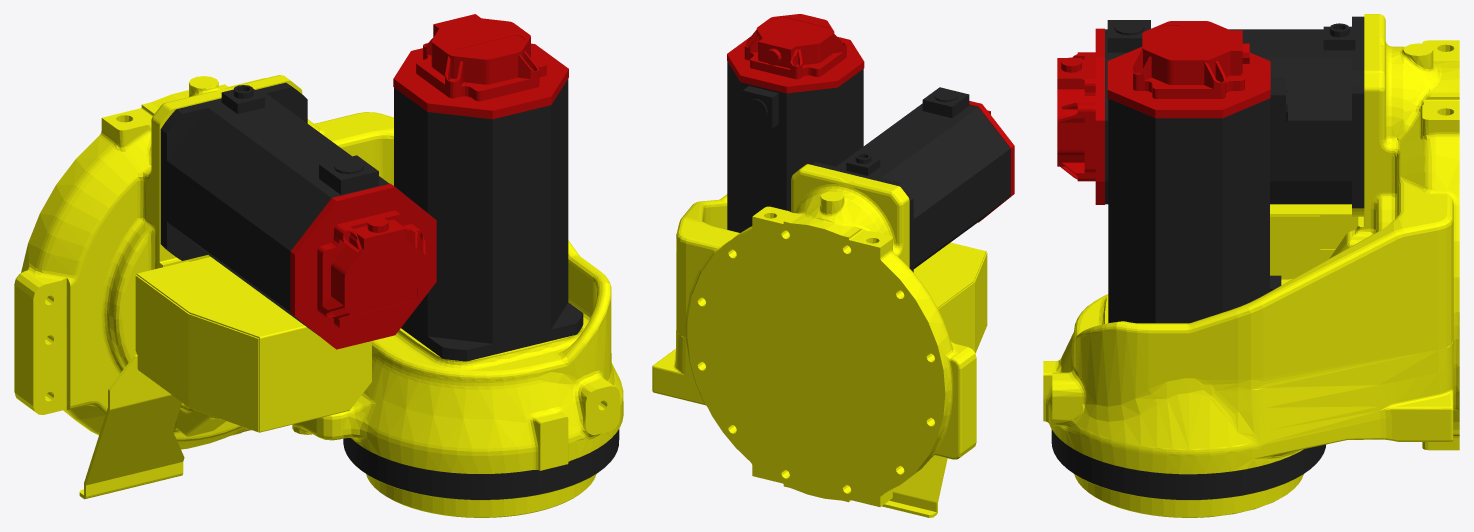
The picture shows the model from 3 angles, left to right: view 1: azimuth 30°, elevation 25°; view 2: azimuth 150°, elevation 25°; view 3: azimuth 270°, elevation 25°; orthographic projection. The views are drawn at different scales.
Parts seen in each view (by area): view 1: node; view 2: node; view 3: node.
Boxes of the visible parts, bbox=[...] form: node: bbox=[14, 14, 623, 517]; node: bbox=[652, 14, 1014, 517]; node: bbox=[1043, 14, 1459, 517].
Size of the model in its own units: 428 by 415 by 334.
